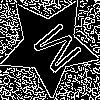M: (24, 21, 84, 82)
